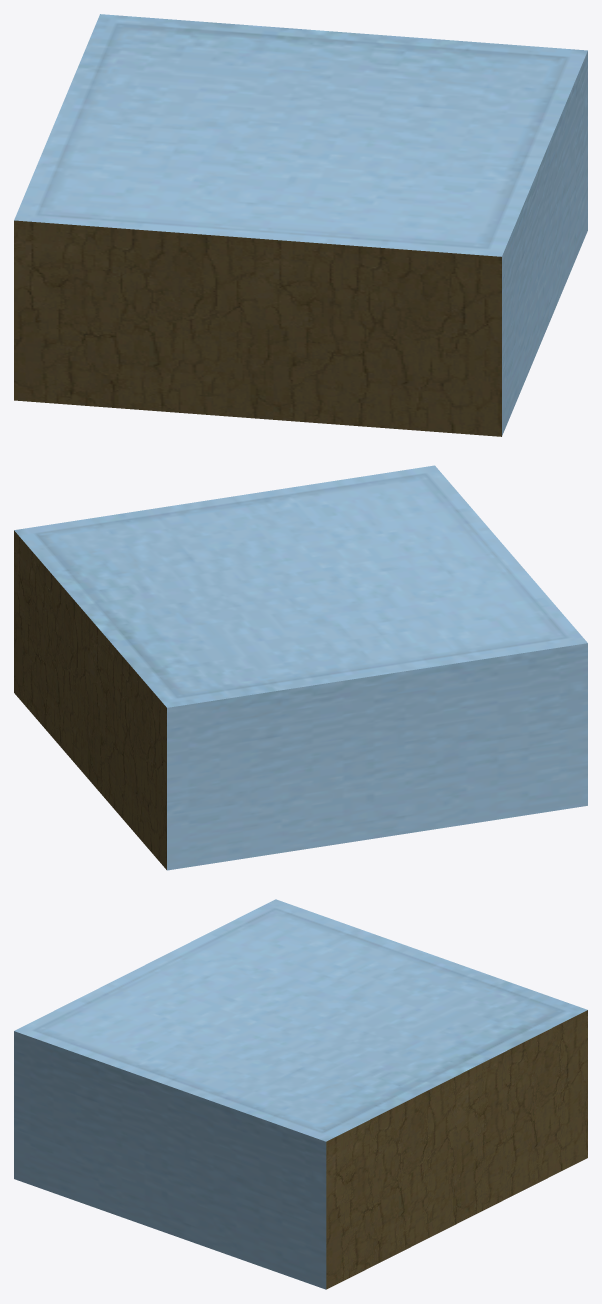
3 renders of one model, top to bottom at view 1: azimuth 30°, elevation 25°; view 2: azimuth 150°, elevation 25°; view 3: azimuth 270°, elevation 25°, orthographic. The views are drawn at different scales.
Visible parts, largest first — view 1: Joint_0_Object_1, Joint_0_Object_0; view 2: Joint_0_Object_1, Joint_0_Object_0; view 3: Joint_0_Object_1, Joint_0_Object_0.
Part boxes in pixels (x1,y1,x2,y2): Joint_0_Object_1: (14, 14, 587, 435); Joint_0_Object_0: (14, 220, 501, 436); Joint_0_Object_1: (14, 465, 587, 870); Joint_0_Object_0: (14, 530, 166, 869); Joint_0_Object_1: (14, 899, 587, 1289); Joint_0_Object_0: (326, 1010, 587, 1289).
Bounding box in the file's own units: 528 × 150 × 528.
